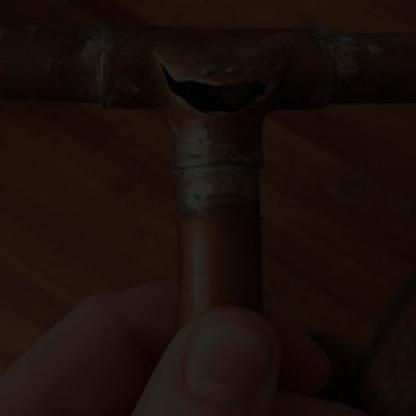burst: (153, 46, 281, 120)
